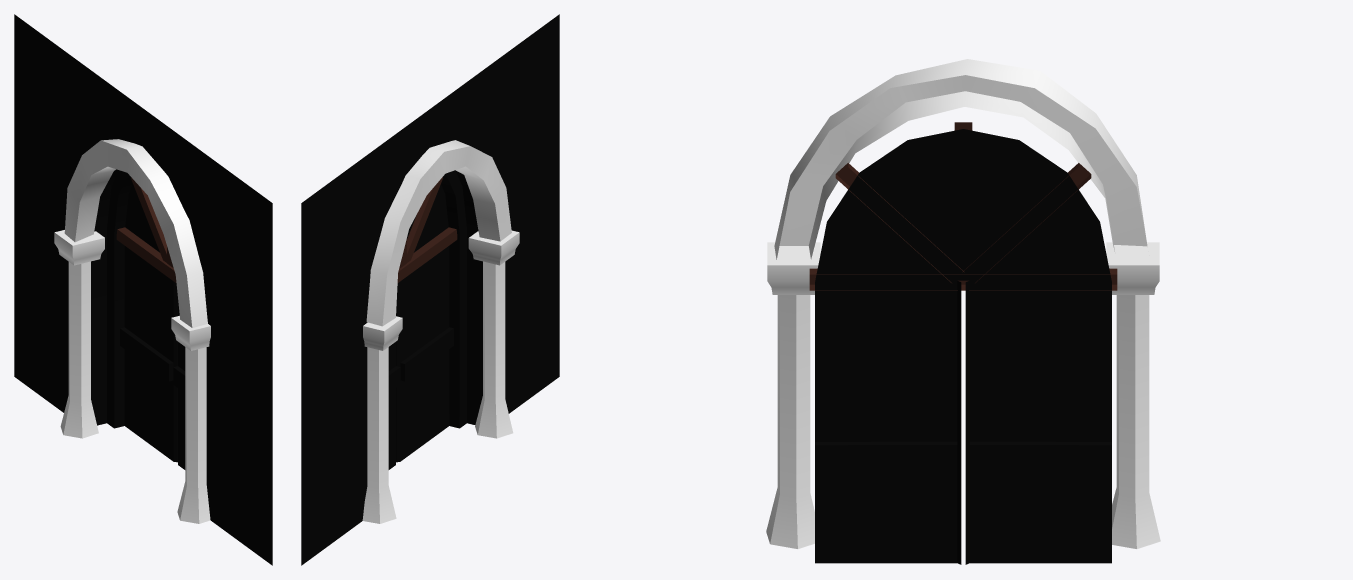
Rendered from standard_door_7.FBX.
3 renders of one model, left to right at view 1: azimuth 30°, elevation 25°; view 2: azimuth 150°, elevation 25°; view 3: azimuth 270°, elevation 25°, orthographic. The views are drawn at different scales.
Parts seen in each view (by area): view 1: standard_door_7; view 2: standard_door_7; view 3: standard_door_7.
Part boxes in pixels (x1,y1,x2,y2): standard_door_7: (14,14,272,565); standard_door_7: (301,14,559,565); standard_door_7: (766,59,1160,564).
Bounding box in the file's own units: 56.76 × 332 × 429.
